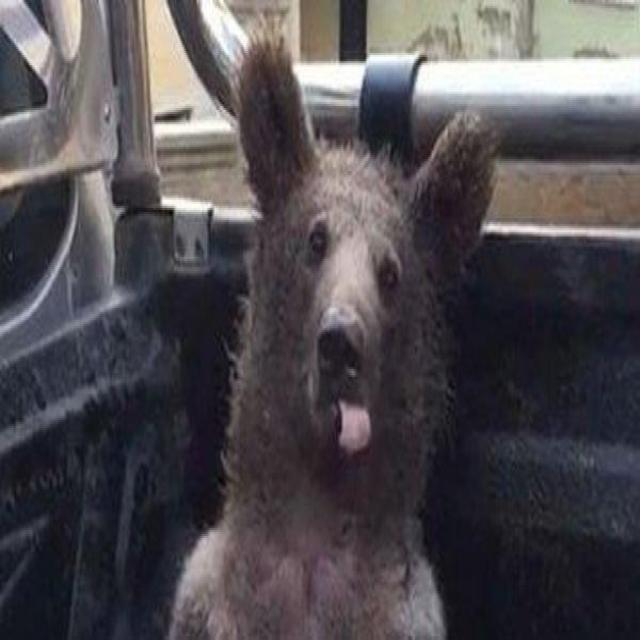Bear: (169, 41, 502, 640)
